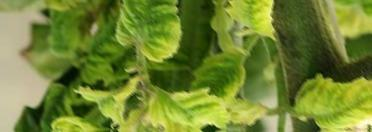Tomato leaf yellow virus: (118, 0, 207, 79), (158, 75, 265, 132), (296, 78, 372, 132), (225, 0, 289, 64)
